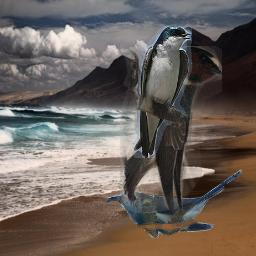Cuckoo: (106, 169, 246, 239)
Swallow: (120, 46, 222, 213), (134, 26, 192, 158)
